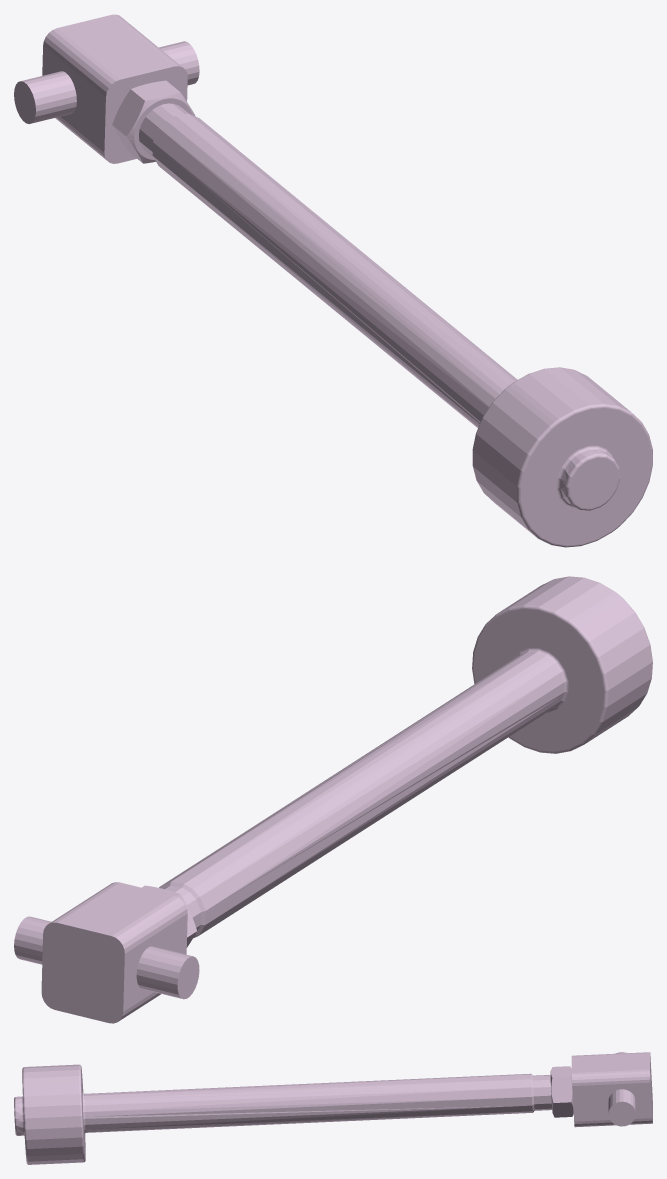
File: rambler_Brazo1_vis_3.dae
3 views of the same model, one above another, from view 1: azimuth 30°, elevation 25°; view 2: azimuth 150°, elevation 25°; view 3: azimuth 270°, elevation 25° (orthographic). The views are drawn at different scales.
Parts seen in each view (by area): view 1: Node_0x7fe100285c80; view 2: Node_0x7fe100285c80; view 3: Node_0x7fe100285c80.
Boxes of the visible parts, <box> form: Node_0x7fe100285c80: <box>14,14,652,547</box>; Node_0x7fe100285c80: <box>14,576,652,1023</box>; Node_0x7fe100285c80: <box>14,1052,652,1164</box>.
Bounding box in the file's own units: 0.06 × 0.0557 × 0.3258.
